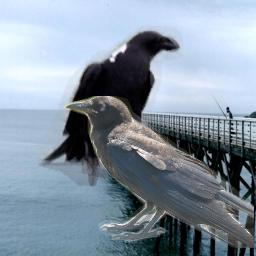Crow: (64, 96, 254, 248), (36, 26, 183, 193)
